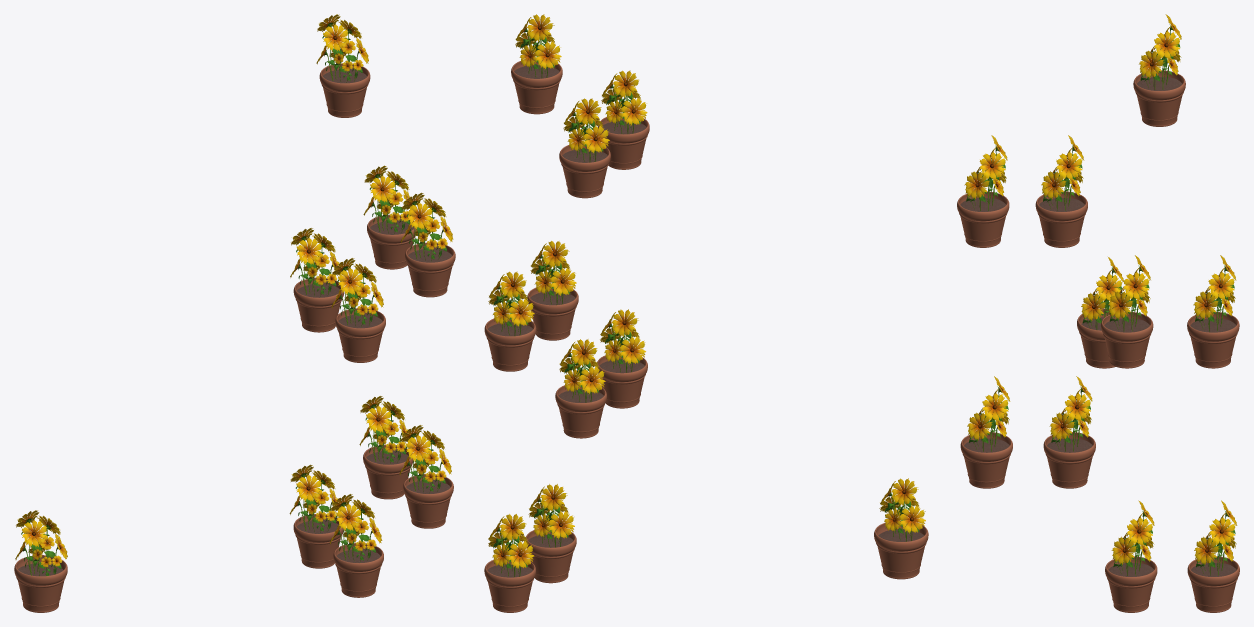
Rendered from Room1-Flower5.glb.
The picture shows the model from 3 angles, left to right: view 1: azimuth 30°, elevation 25°; view 2: azimuth 150°, elevation 25°; view 3: azimuth 270°, elevation 25°; orthographic projection. The views are drawn at different scales.
Parts seen in each view (by area): view 1: Plant_Pot_Soil_Plant_Pot_Soil_M_0.036, Plant_Pot_Soil_Plant_Pot_Soil_M_0.007, Plant_Pot_Soil_Plant_Pot_Soil_M_0.005, Plant_Pot_Soil_Plant_Pot_Soil_M_0.014, Plant_Pot_Soil_Plant_Pot_Soil_M_0.012, Plant_Pot_Soil_Plant_Pot_Soil_M_0.002, Plant_Pot_Soil_Plant_Pot_Soil_M_0.008, Object_5.003, Object_5.001, Object_5.004, Object_5.032, Object_5.007 (+8 smaller); view 2: Plant_Pot_Soil_Plant_Pot_Soil_M_0.036, Plant_Pot_Soil_Plant_Pot_Soil_M_0.008, Plant_Pot_Soil_Plant_Pot_Soil_M_0.002, Plant_Pot_Soil_Plant_Pot_Soil_M_0.004, Plant_Pot_Soil_Plant_Pot_Soil_M_0.011, Plant_Pot_Soil_Plant_Pot_Soil_M_0.015, Plant_Pot_Soil_Plant_Pot_Soil_M_0.007, Plant_Pot_Soil_Plant_Pot_Soil_M_0.012, Plant_Pot_Soil_Plant_Pot_Soil_M_0.014, Object_5.004, Object_5.002, Object_5.005 (+8 smaller); view 3: Plant_Pot_Soil_Plant_Pot_Soil_M_0.007, Plant_Pot_Soil_Plant_Pot_Soil_M_0.008, Plant_Pot_Soil_Plant_Pot_Soil_M_0.004, Plant_Pot_Soil_Plant_Pot_Soil_M_0.002, Plant_Pot_Soil_Plant_Pot_Soil_M_0.005, Plant_Pot_Soil_Plant_Pot_Soil_M_0.012, Plant_Pot_Soil_Plant_Pot_Soil_M_0.011, Plant_Pot_Soil_Plant_Pot_Soil_M_0.014, Plant_Pot_Soil_Plant_Pot_Soil_M_0.015, Object_5.008, Object_5.001, Object_5.002 (+8 smaller).
Boxes of the visible parts, box(x1,y1,x2,y2) form: Plant_Pot_Soil_Plant_Pot_Soil_M_0.036: box(14, 555, 67, 612); Plant_Pot_Soil_Plant_Pot_Soil_M_0.007: box(335, 308, 385, 362); Plant_Pot_Soil_Plant_Pot_Soil_M_0.005: box(405, 242, 455, 297); Plant_Pot_Soil_Plant_Pot_Soil_M_0.014: box(333, 543, 383, 597); Plant_Pot_Soil_Plant_Pot_Soil_M_0.012: box(403, 474, 453, 528); Plant_Pot_Soil_Plant_Pot_Soil_M_0.002: box(319, 63, 370, 117); Plant_Pot_Soil_Plant_Pot_Soil_M_0.008: box(293, 277, 344, 332); Object_5.003: box(400, 192, 453, 261); Object_5.001: box(316, 14, 368, 82); Object_5.004: box(331, 258, 383, 326); Object_5.032: box(329, 494, 382, 561); Object_5.007: box(399, 425, 451, 492); Plant_Pot_Soil_Plant_Pot_Soil_M_0.036: box(874, 520, 928, 579); Plant_Pot_Soil_Plant_Pot_Soil_M_0.008: box(484, 317, 536, 371); Plant_Pot_Soil_Plant_Pot_Soil_M_0.002: box(511, 60, 562, 114); Plant_Pot_Soil_Plant_Pot_Soil_M_0.004: box(559, 144, 610, 198); Plant_Pot_Soil_Plant_Pot_Soil_M_0.011: box(555, 383, 606, 438); Plant_Pot_Soil_Plant_Pot_Soil_M_0.015: box(484, 557, 535, 612); Plant_Pot_Soil_Plant_Pot_Soil_M_0.007: box(527, 286, 578, 340); Plant_Pot_Soil_Plant_Pot_Soil_M_0.012: box(597, 354, 647, 408); Plant_Pot_Soil_Plant_Pot_Soil_M_0.014: box(526, 528, 576, 583); Object_5.004: box(530, 241, 576, 304); Object_5.002: box(563, 98, 609, 162); Object_5.005: box(488, 271, 534, 335); Plant_Pot_Soil_Plant_Pot_Soil_M_0.007: box(1101, 312, 1153, 368); Plant_Pot_Soil_Plant_Pot_Soil_M_0.008: box(1187, 312, 1239, 368); Plant_Pot_Soil_Plant_Pot_Soil_M_0.004: box(1035, 191, 1087, 247); Plant_Pot_Soil_Plant_Pot_Soil_M_0.002: box(1133, 70, 1185, 126); Plant_Pot_Soil_Plant_Pot_Soil_M_0.005: box(957, 191, 1009, 247); Plant_Pot_Soil_Plant_Pot_Soil_M_0.012: box(960, 432, 1012, 488); Plant_Pot_Soil_Plant_Pot_Soil_M_0.011: box(1043, 432, 1095, 488); Plant_Pot_Soil_Plant_Pot_Soil_M_0.014: box(1105, 556, 1157, 612); Plant_Pot_Soil_Plant_Pot_Soil_M_0.015: box(1187, 556, 1239, 612); Object_5.008: box(1194, 500, 1237, 575); Object_5.001: box(1139, 14, 1181, 89); Object_5.002: box(1041, 135, 1084, 210).
Bounding box in the file's own units: 12.89 × 18.51 × 8.11.
3 materials, 3 textured.
